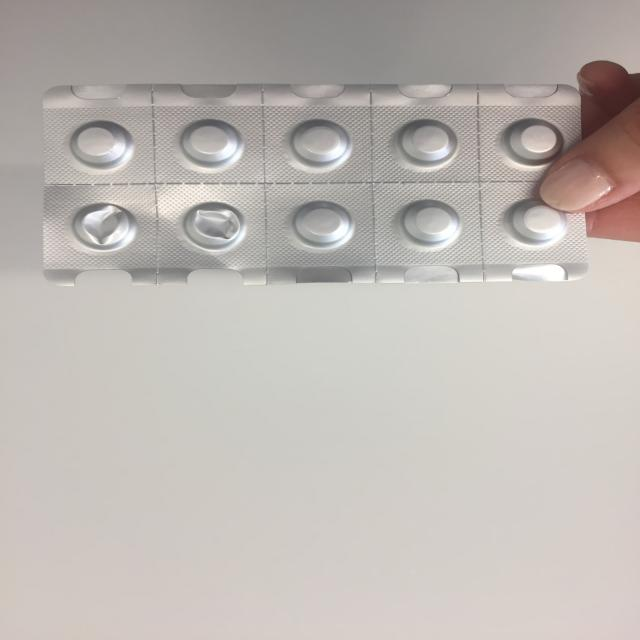Empty: (61, 196, 144, 256), (178, 198, 252, 255)
Pill: (388, 194, 469, 255), (281, 198, 366, 254), (276, 114, 361, 170), (495, 192, 574, 251), (63, 116, 140, 176), (384, 114, 467, 168), (496, 110, 568, 170), (169, 114, 248, 168)
